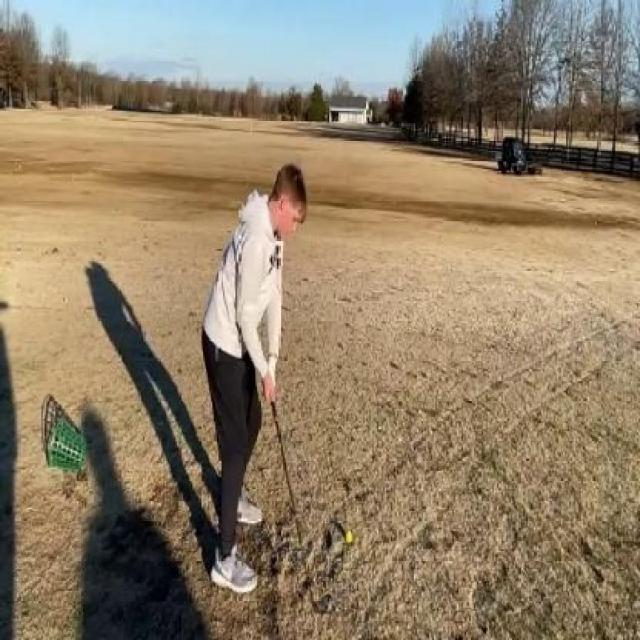club head: (307, 587, 335, 619)
